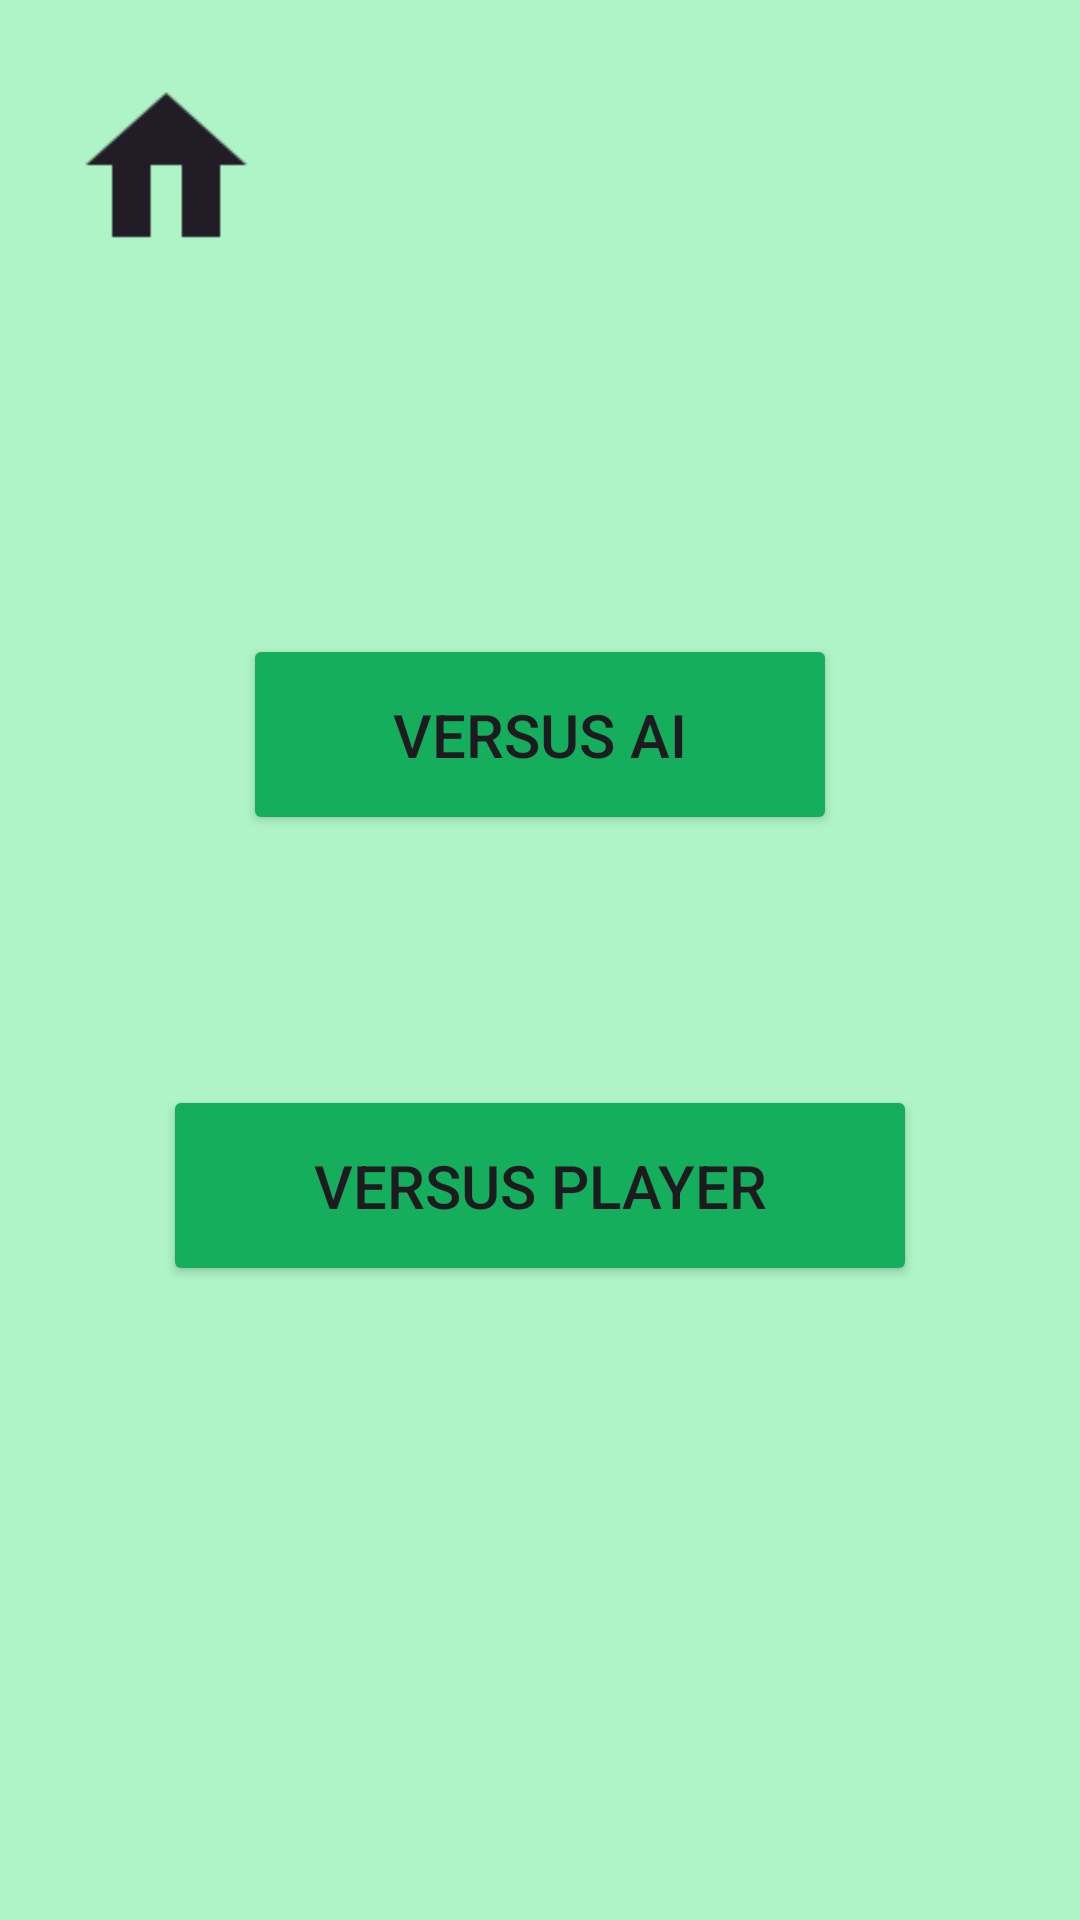

Screen size 1080px×1920px. Icon name, then its center in pixels as point (x, y):
home: point (166, 165)
